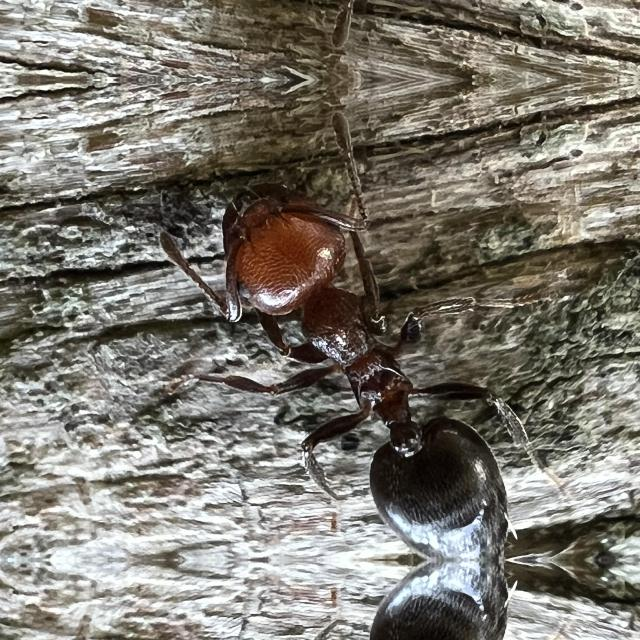Crematogaster: (183, 162, 561, 560), (183, 560, 561, 640)
